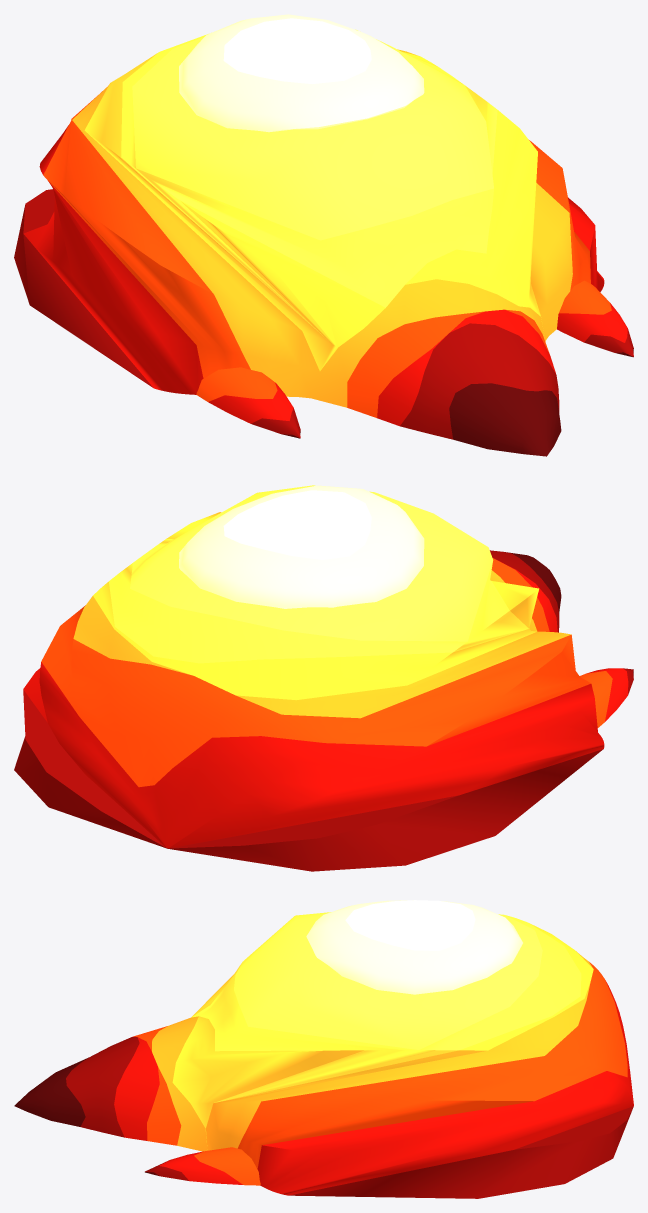
Rendered from shot_fireball_flare.glb.
3 views of the same model, one above another, from view 1: azimuth 30°, elevation 25°; view 2: azimuth 150°, elevation 25°; view 3: azimuth 270°, elevation 25° (orthographic). The views are drawn at different scales.
Visible parts, largest first — view 1: shot_fireball_flare_fire, shot_fireball_flare_core, shot_fireball_flare_tongue0, shot_fireball_flare_tongue1; view 2: shot_fireball_flare_fire, shot_fireball_flare_core, shot_fireball_flare_tongue0; view 3: shot_fireball_flare_fire, shot_fireball_flare_core, shot_fireball_flare_tongue1.
Part boxes in pixels (<box>): shot_fireball_flare_fire: <box>14,29,604,456</box>; shot_fireball_flare_core: <box>179,14,424,132</box>; shot_fireball_flare_tongue0: <box>196,367,300,438</box>; shot_fireball_flare_tongue1: <box>557,280,633,357</box>; shot_fireball_flare_fire: <box>14,485,604,871</box>; shot_fireball_flare_core: <box>179,485,424,608</box>; shot_fireball_flare_tongue0: <box>579,668,633,727</box>; shot_fireball_flare_fire: <box>14,912,633,1198</box>; shot_fireball_flare_core: <box>306,900,522,994</box>; shot_fireball_flare_tongue1: <box>145,1147,260,1185</box>.
Bounding box in the file's own units: 9.92 × 4.75 × 14.
